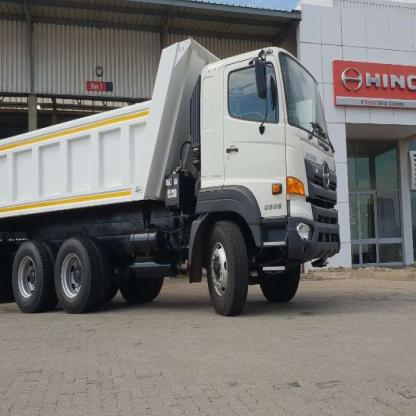dump_truck: (0, 37, 354, 342)
